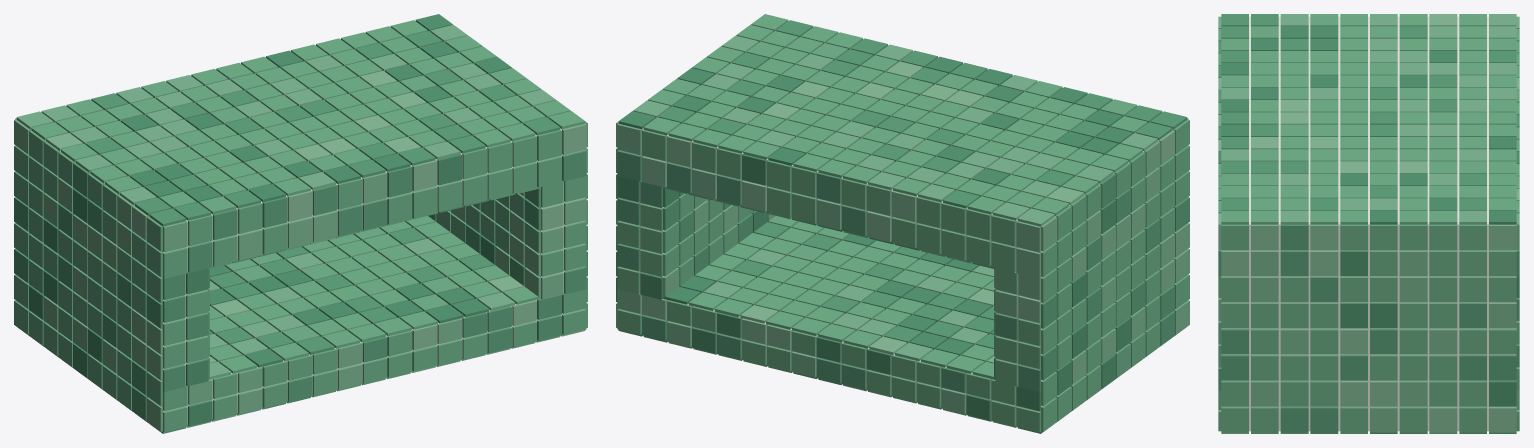
The model's file is mosaic-coffee-table-green.glb.
3 renders of one model, left to right at view 1: azimuth 30°, elevation 25°; view 2: azimuth 150°, elevation 25°; view 3: azimuth 270°, elevation 25°, orthographic.
Visible parts, largest first — view 1: Green mosaic tiles 1, Green mosaic tiles 2, Green mosaic tiles 3, Green mosaic tiles 4, Green mosaic tiles 5, Grout body; view 2: Green mosaic tiles 1, Green mosaic tiles 3, Green mosaic tiles 2, Green mosaic tiles 4, Green mosaic tiles 5, Grout body; view 3: Green mosaic tiles 1, Green mosaic tiles 2, Green mosaic tiles 3, Grout body, Green mosaic tiles 5, Green mosaic tiles 4.
Boxes of the visible parts, x1=… form: Green mosaic tiles 1: x1=14, y1=20, x2=587, y2=432; Green mosaic tiles 2: x1=14, y1=31, x2=587, y2=433; Green mosaic tiles 3: x1=14, y1=25, x2=586, y2=431; Green mosaic tiles 4: x1=29, y1=14, x2=511, y2=426; Green mosaic tiles 5: x1=15, y1=24, x2=587, y2=372; Grout body: x1=30, y1=128, x2=584, y2=424; Green mosaic tiles 1: x1=616, y1=14, x2=1189, y2=432; Green mosaic tiles 3: x1=616, y1=35, x2=1189, y2=427; Green mosaic tiles 2: x1=616, y1=20, x2=1189, y2=433; Green mosaic tiles 4: x1=616, y1=56, x2=1132, y2=422; Green mosaic tiles 5: x1=616, y1=35, x2=1174, y2=363; Grout body: x1=619, y1=128, x2=1173, y2=424; Green mosaic tiles 1: x1=1218, y1=14, x2=1519, y2=433; Green mosaic tiles 2: x1=1218, y1=14, x2=1519, y2=433; Green mosaic tiles 3: x1=1218, y1=14, x2=1519, y2=432; Grout body: x1=1221, y1=16, x2=1516, y2=431; Green mosaic tiles 5: x1=1218, y1=14, x2=1519, y2=433; Green mosaic tiles 4: x1=1218, y1=26, x2=1519, y2=433.
Size of the model in its own units: 0.81 by 0.38 by 0.49.
